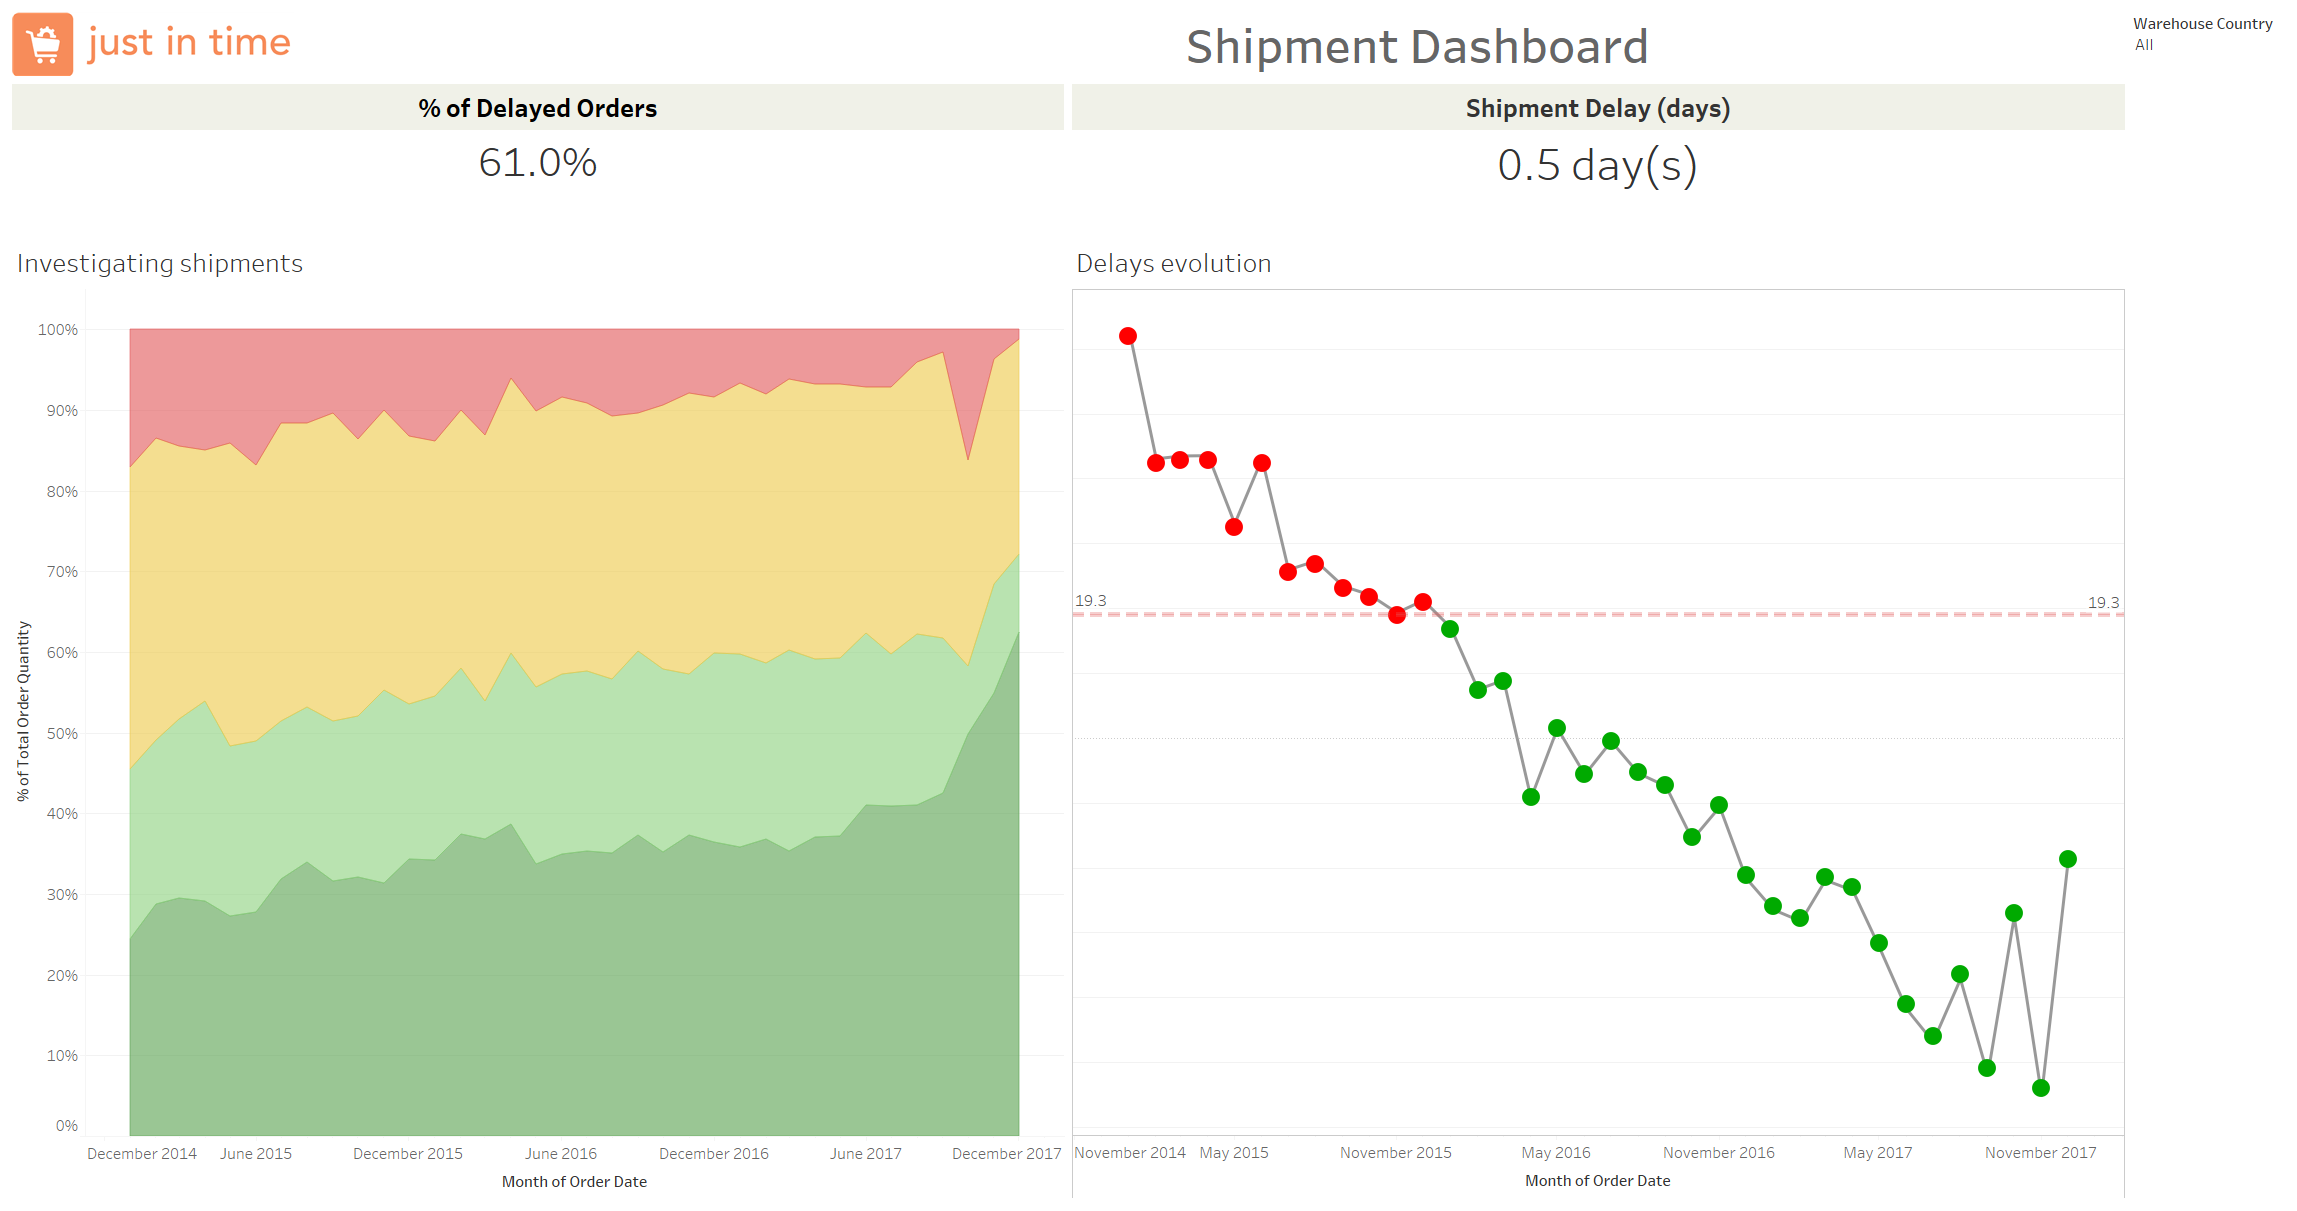

What the dashboard file says about the page in this screenshot:
{"tool":"tableau","page":{"name":"Shipment Dashboard","canvas":[1000,1000],"units":"permille","ordinal":1},"visuals":[{"type":"image","param":"Image/Screenshot 2024-10-29 234917.png","box":[3.5,6.6,304.3,59.1]},{"type":"text","box":[307.8,6.6,619,59.1]},{"type":"filter","title":"Investigating shipments","param":"[federated.1mttv9v1l45z6s1agd38s17aw9gs].[none:Warehouse Country:nk]","box":[926.9,6.6,69.7,50.4]},{"type":"worksheet","title":"% of Delayed Orders","mark":"Automatic","box":[3.5,65.8,461.7,128.4]},{"type":"worksheet","title":"Shipment Delay (days)","mark":"Automatic","box":[465.1,65.8,461.7,128.4]},{"type":"worksheet","title":"Investigating shipments","mark":"Area","cols":["Calculation_3115646525237395457"],"box":[3.5,194.1,461.7,799.3]},{"type":"worksheet","title":"Delays evolution","mark":"Automatic","rows":["Calculation_3115646525380403206","Calculation_3115646525380403206"],"cols":["Calculation_3115646525237395457"],"box":[465.1,194.1,461.7,799.3]}]}

Visuals, with their boxes on the dashboard's canvas, which has no fixed pixel size, in thousandths of its width and height (x1, y1, x2, y2). These are canvas units, not pixel positions in the 2297x1211 screenshot, which may show the page scaled, cropped or inside an application window:
image: 4 7 308 66
text: 308 7 927 66
"Investigating shipments" filter: 927 7 997 57
"% of Delayed Orders" worksheet: 4 66 465 194
"Shipment Delay (days)" worksheet: 465 66 927 194
"Investigating shipments" worksheet (Area marks): 4 194 465 993
"Delays evolution" worksheet: 465 194 927 993
